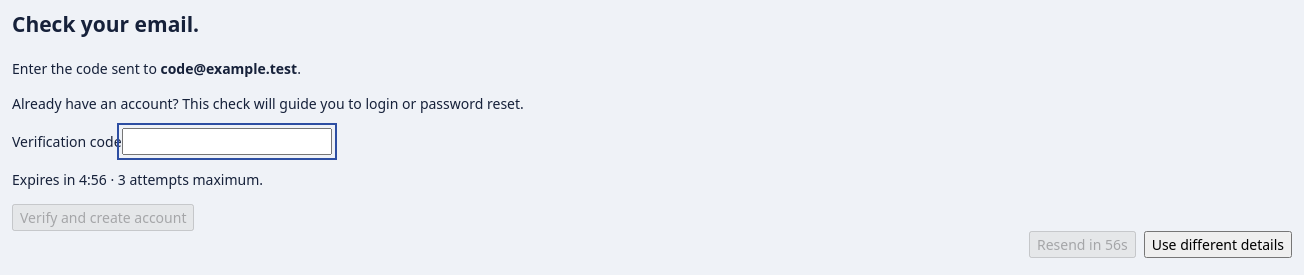
Test case: offers login and password recovery after proving an already registered mailbox
The image size is (1304, 275).
In the field labelled "Verification code": (226, 142) [122,128,332,155], type "012345"
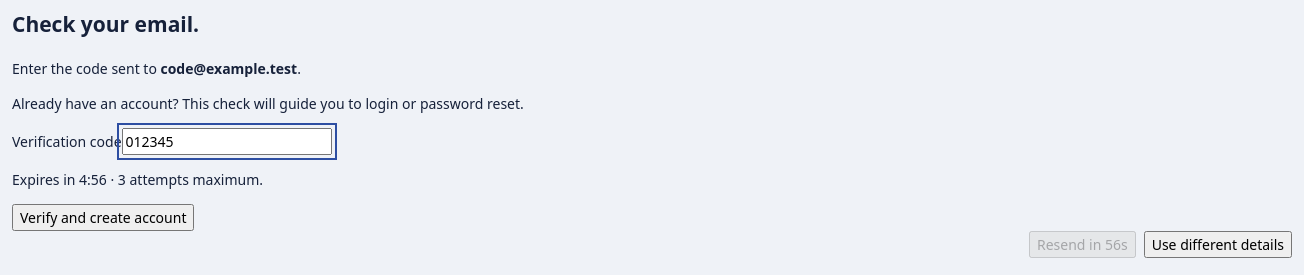
Click the button "Verify and create account": (103, 218) [12,204,194,231]
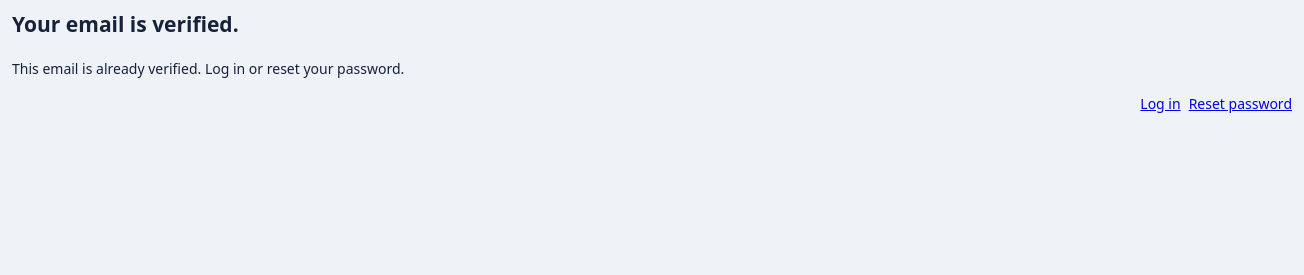
Now the link "Reset password" is shown, box [1189,93,1292,114]
Now the link "Log in" is shown, box [1140,93,1181,114]
